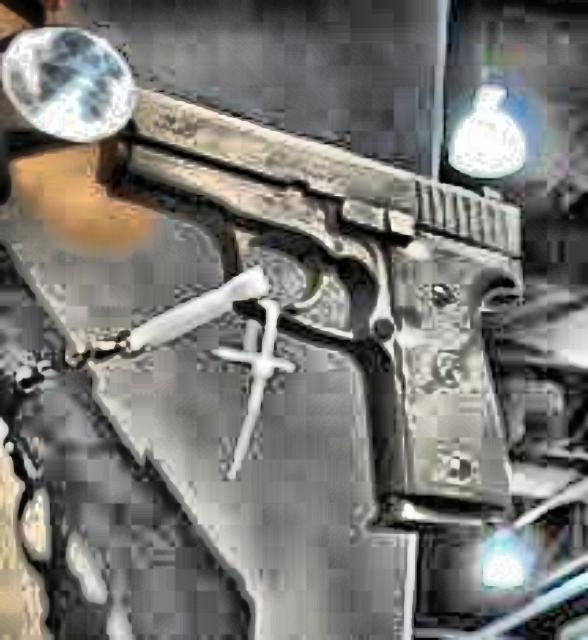pistol: (82, 58, 520, 520)
